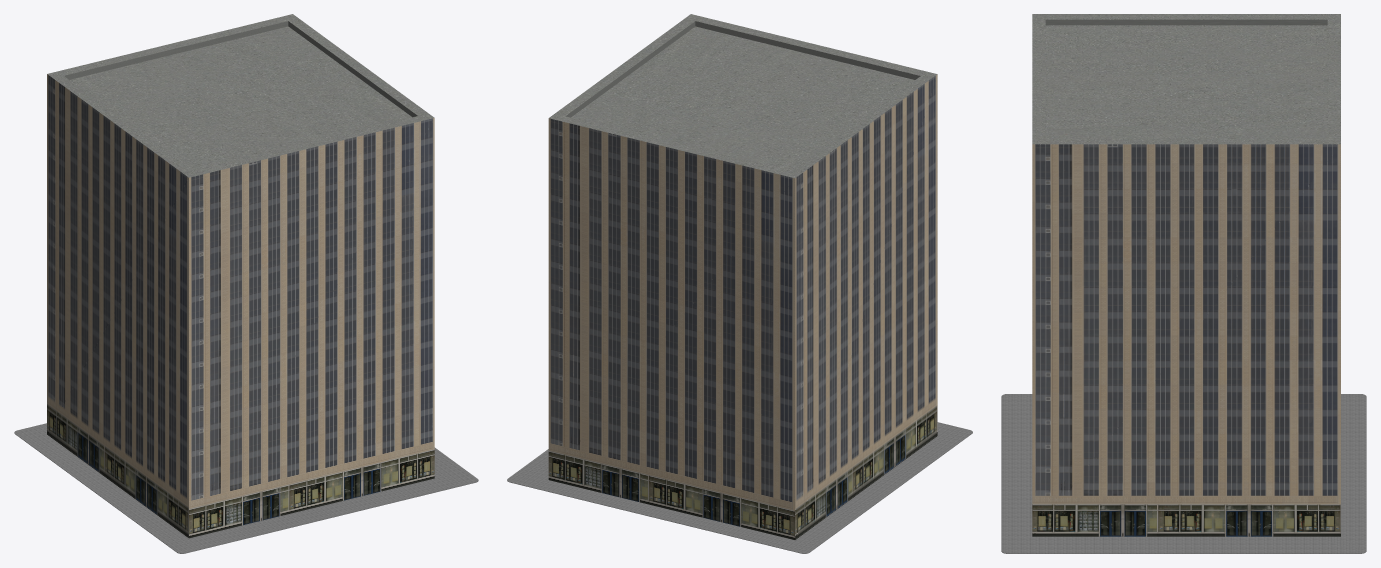
The model's file is Building 2.FBX.
The picture shows the model from 3 angles, left to right: view 1: azimuth 30°, elevation 25°; view 2: azimuth 150°, elevation 25°; view 3: azimuth 270°, elevation 25°; orthographic projection. The views are drawn at different scales.
Parts seen in each view (by area): view 1: Building 2; view 2: Building 2; view 3: Building 2.
Part boxes in pixels (<box>): Building 2: <box>14,14,478,553</box>; Building 2: <box>507,14,972,553</box>; Building 2: <box>1001,14,1366,553</box>.
Bounding box in the file's own units: 2594 × 2974 × 2507.
3 materials, 3 textured.
